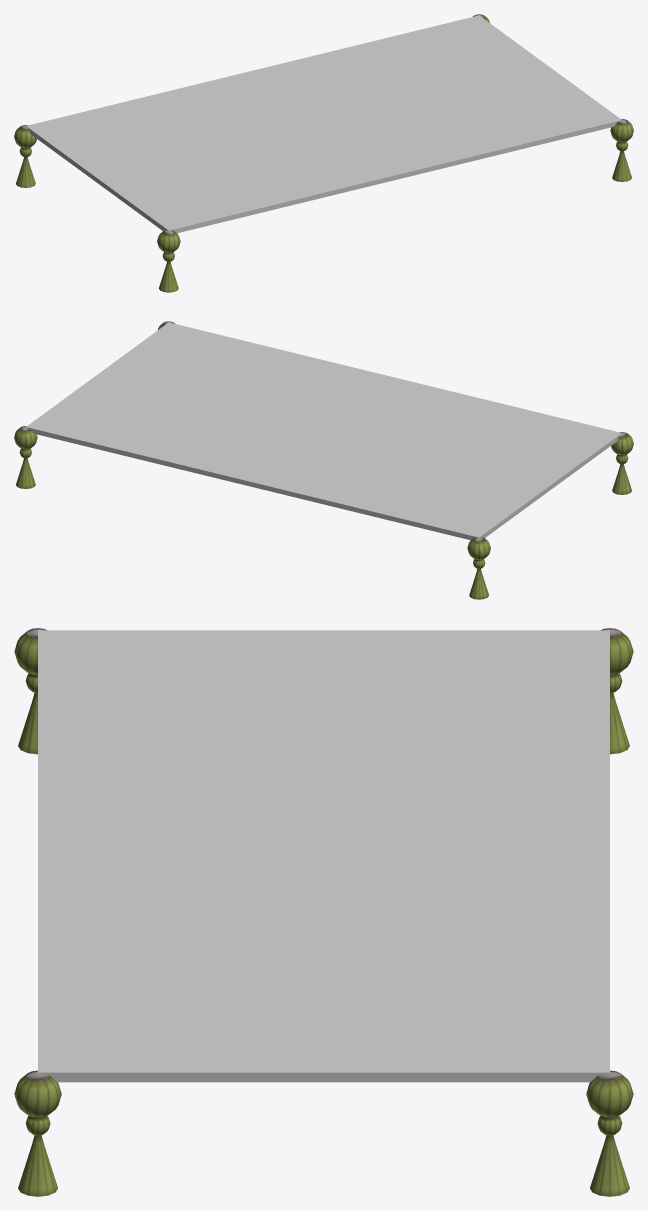
Rendered from Carpet.FBX.
3 views of the same model, one above another, from view 1: azimuth 30°, elevation 25°; view 2: azimuth 150°, elevation 25°; view 3: azimuth 270°, elevation 25° (orthographic). The views are drawn at different scales.
Parts seen in each view (by area): view 1: Box002, Sphere004, Sphere001, Sphere003; view 2: Box002, Sphere003, Sphere002, Sphere004; view 3: Box002, Sphere001, Sphere002, Sphere004, Sphere003.
Boxes of the visible parts, bbox=[...] form: Box002: bbox=[26, 15, 621, 233]; Sphere004: bbox=[157, 230, 180, 292]; Sphere001: bbox=[610, 119, 633, 181]; Sphere003: bbox=[14, 125, 36, 187]; Box002: bbox=[26, 322, 621, 540]; Sphere003: bbox=[467, 537, 490, 599]; Sphere002: bbox=[14, 426, 37, 488]; Sphere004: bbox=[611, 432, 633, 494]; Box002: bbox=[38, 630, 609, 1082]; Sphere001: bbox=[14, 1070, 61, 1196]; Sphere002: bbox=[586, 1070, 633, 1196]; Sphere004: bbox=[14, 628, 46, 754]; Sphere003: bbox=[601, 628, 633, 754].
Size of the model in its own units: 210 by 24.45 by 119.
